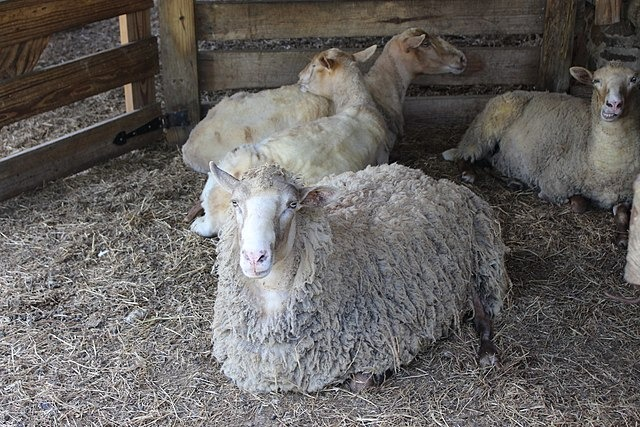resting: (209, 160, 510, 393), (186, 29, 460, 201), (455, 59, 640, 214)
